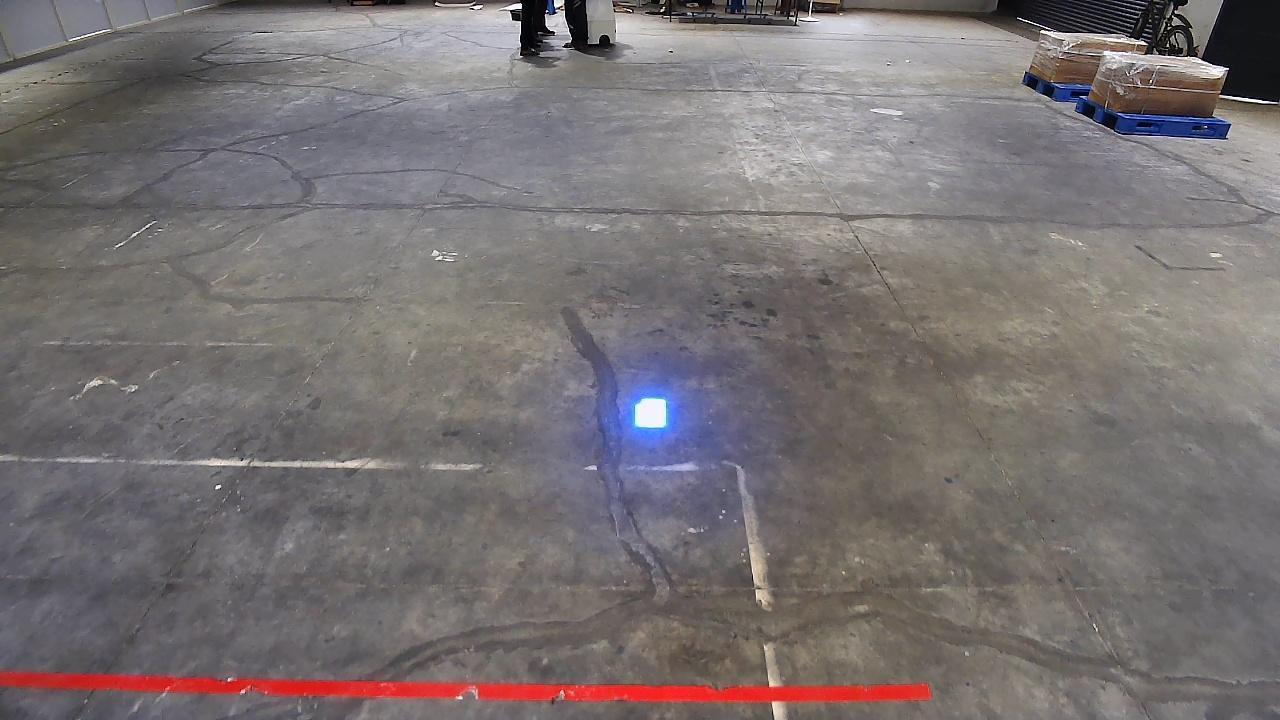red_line: (0, 669, 931, 702)
